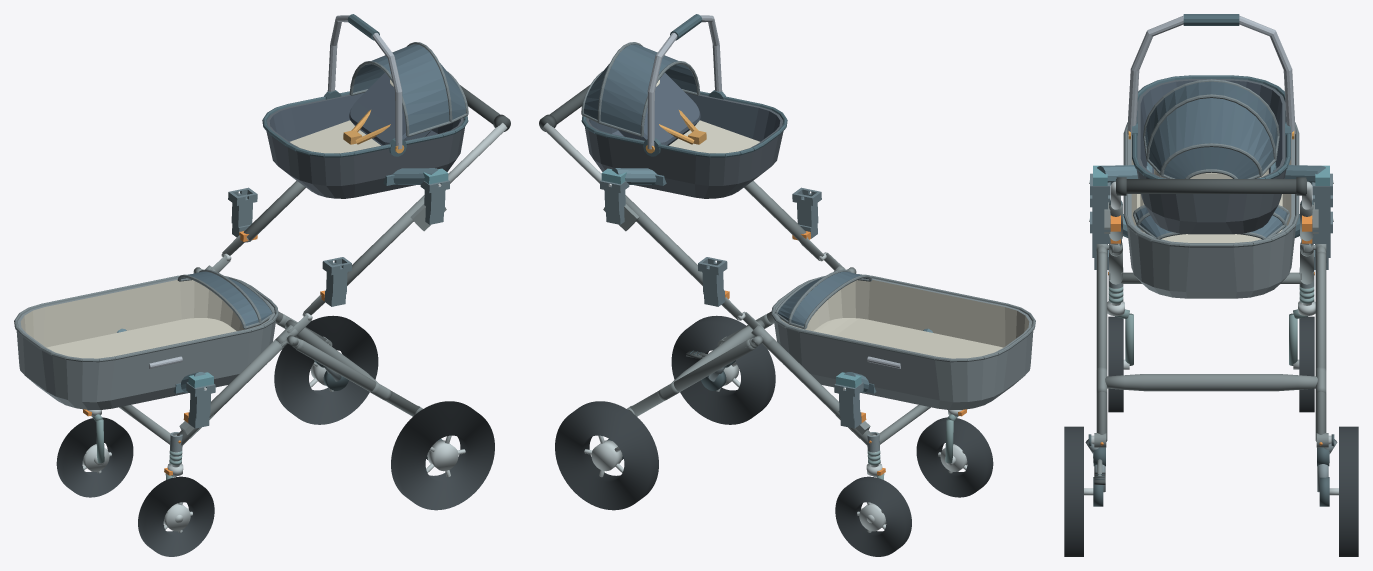
The model's file is D07_w550_state1_wheel_M.glb.
3 views of the same model, side by side, from view 1: azimuth 30°, elevation 25°; view 2: azimuth 150°, elevation 25°; view 3: azimuth 270°, elevation 25° (orthographic). The views are drawn at different scales.
Visible parts, largest first — view 1: D07_Lower, D07_Upper, RL_tire.002, RR_tire.002, FL_tire.002, FR_tire.002, V46_rear_leg_-1.003, main_lower_-1.003, main_upper_-1.003, Universal_Cabin_Receiver_M_-1, Universal_Cabin_Receiver_M_1, Universal_Cabin_Receiver_L_-1 (+6 smaller); view 2: D07_Lower, D07_Upper, RR_tire.002, RL_tire.002, FR_tire.002, FL_tire.002, V46_rear_leg_1.003, main_lower_1.003, main_upper_1.003, Universal_Cabin_Receiver_M_1, Universal_Cabin_Receiver_M_-1, Universal_Cabin_Receiver_L_1 (+6 smaller); view 3: D07_Upper, D07_Lower, V46_rearbar.003, RL_tire.002, RR_tire.002, round_handle.002, V46_rear_leg_-1.003, V46_rear_leg_1.003, D07_Upper_Mount_H, FL_tire.002, FR_tire.002, Universal_Cabin_Receiver_H_1 (+5 smaller).
Part boxes in pixels (x1,y1,x2,y2): D07_Lower: [14, 269, 278, 409]; D07_Upper: [262, 14, 468, 198]; RL_tire.002: [391, 401, 494, 510]; RR_tire.002: [274, 315, 378, 424]; FL_tire.002: [138, 476, 214, 556]; FR_tire.002: [56, 417, 133, 497]; V46_rear_leg_-1.003: [295, 339, 419, 416]; main_lower_-1.003: [177, 340, 286, 445]; main_upper_-1.003: [347, 195, 424, 285]; Universal_Cabin_Receiver_M_-1: [322, 257, 351, 306]; Universal_Cabin_Receiver_M_1: [228, 187, 257, 237]; Universal_Cabin_Receiver_L_-1: [186, 382, 215, 428]; D07_Lower: [771, 269, 1035, 409]; D07_Upper: [581, 14, 787, 198]; RR_tire.002: [555, 401, 658, 510]; RL_tire.002: [671, 315, 775, 424]; FR_tire.002: [835, 476, 911, 556]; FL_tire.002: [916, 417, 993, 497]; V46_rear_leg_1.003: [630, 339, 754, 416]; main_lower_1.003: [763, 340, 872, 445]; main_upper_1.003: [625, 195, 702, 285]; Universal_Cabin_Receiver_M_1: [698, 257, 727, 306]; Universal_Cabin_Receiver_M_-1: [792, 187, 821, 238]; Universal_Cabin_Receiver_L_1: [834, 382, 863, 428]; D07_Upper: [1127, 14, 1295, 234]; D07_Lower: [1123, 122, 1299, 298]; V46_rearbar.003: [1105, 374, 1317, 391]; RL_tire.002: [1064, 426, 1083, 556]; RR_tire.002: [1339, 426, 1358, 556]; round_handle.002: [1116, 179, 1306, 193]; V46_rear_leg_-1.003: [1096, 251, 1107, 441]; V46_rear_leg_1.003: [1315, 251, 1326, 441]; D07_Upper_Mount_H: [1089, 162, 1333, 185]; FL_tire.002: [1108, 316, 1123, 412]; FR_tire.002: [1299, 316, 1314, 412]; Universal_Cabin_Receiver_H_1: [1312, 173, 1332, 231].
Bounding box in the file's own units: 1.38 × 1.33 × 0.6771.
